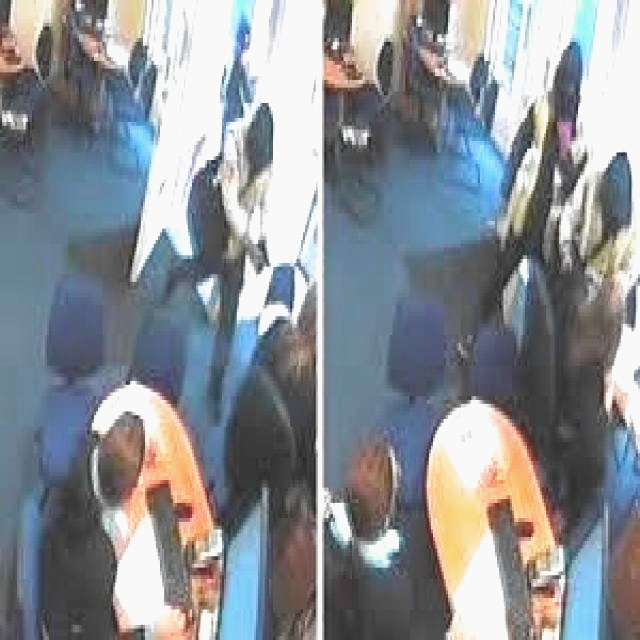gun: (250, 232, 271, 270)
